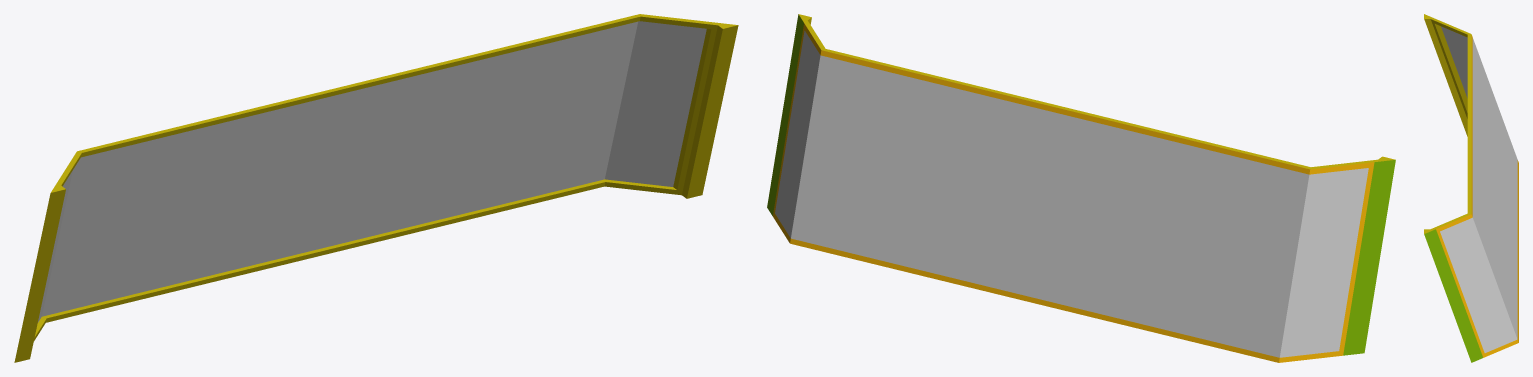
File: window_panoramic_slanted_11x1x3.dae
3 views of the same model, side by side, from view 1: azimuth 30°, elevation 25°; view 2: azimuth 150°, elevation 25°; view 3: azimuth 270°, elevation 25° (orthographic). The views are drawn at different scales.
Visible parts, largest first — view 1: Cube; view 2: Cube; view 3: Cube.
Boxes of the visible parts, bbox=[...] form: Cube: bbox=[14, 14, 738, 362]; Cube: bbox=[767, 14, 1395, 362]; Cube: bbox=[1424, 14, 1518, 362].
Bounding box in the file's own units: 2.75 × 0.5 × 0.75.
